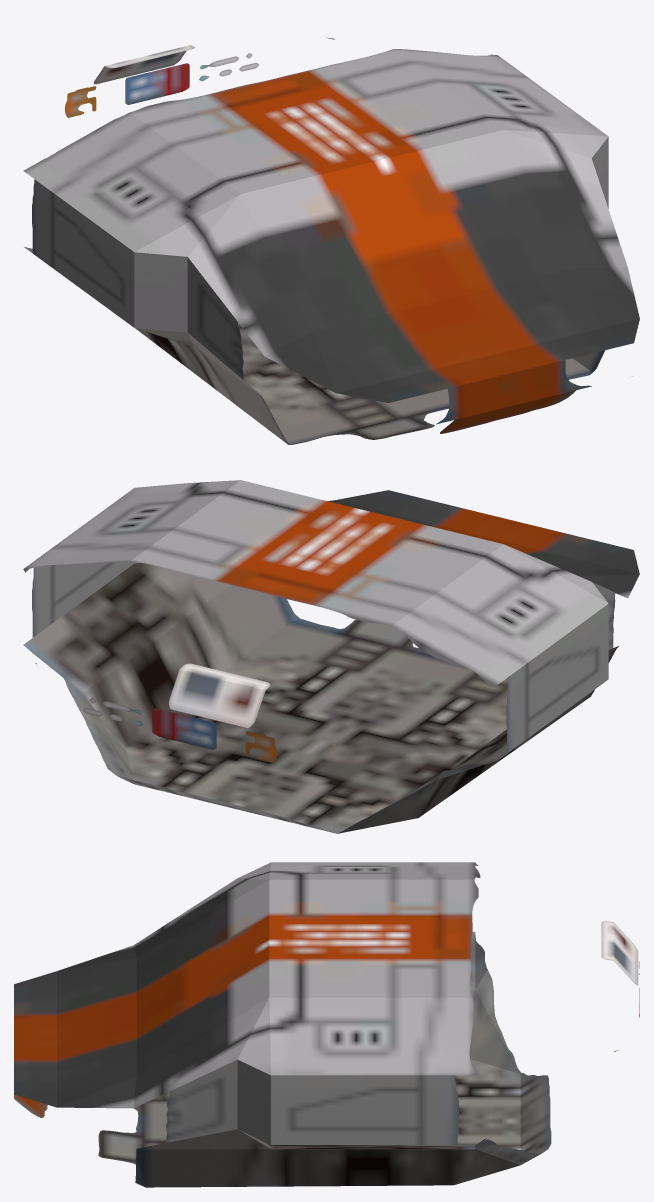
Rendered from TurretBody.obj.
3 views of the same model, one above another, from view 1: azimuth 30°, elevation 25°; view 2: azimuth 150°, elevation 25°; view 3: azimuth 270°, elevation 25° (orthographic). The views are drawn at different scales.
Parts seen in each view (by area): view 1: Hgn_Turret; view 2: Hgn_Turret; view 3: Hgn_Turret.
Boxes of the visible parts, bbox=[...] form: Hgn_Turret: bbox=[23, 37, 639, 444]; Hgn_Turret: bbox=[23, 480, 639, 833]; Hgn_Turret: bbox=[14, 862, 639, 1187].
Bounding box in the file's own units: 25.22 × 10 × 31.34.
